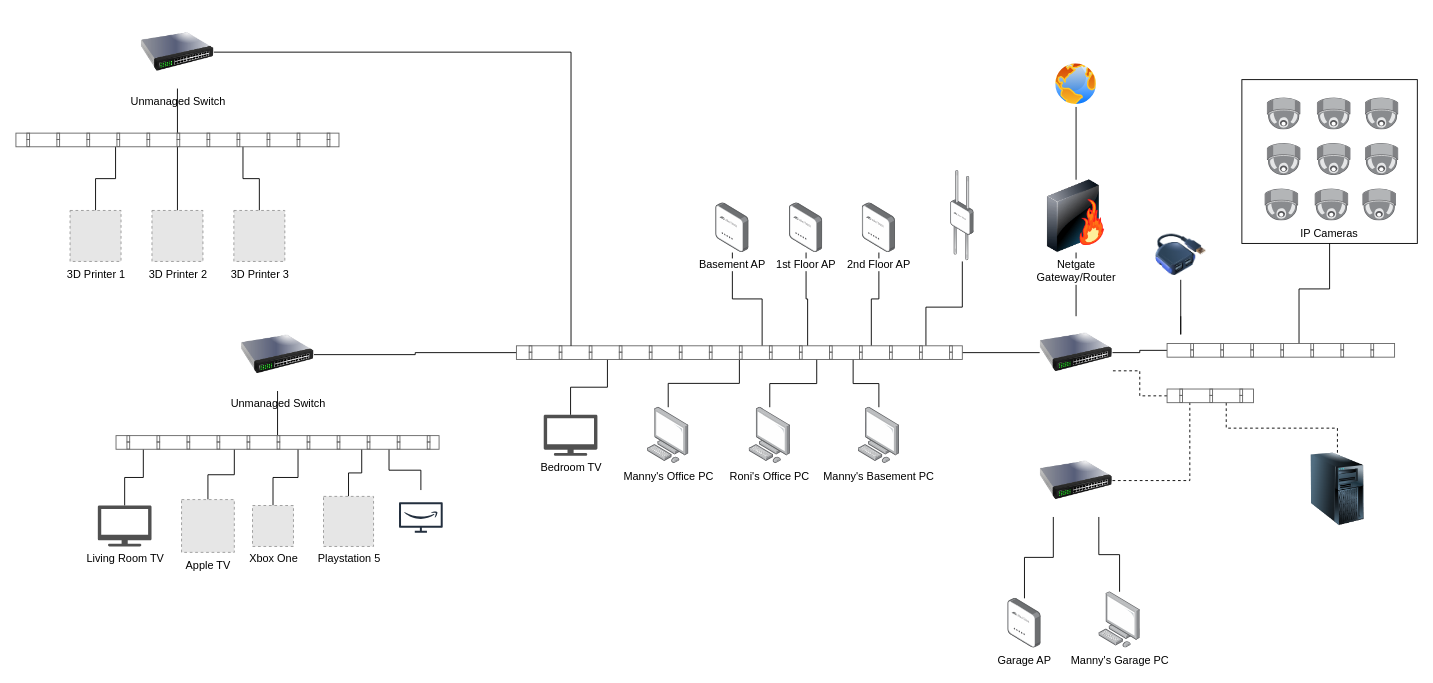
Image size: 1433x683. Some labels were removed from this diagram. Grey dashed boxes stand in for pictures. Each missing label, with the centre of its shape:
24 Port Switch: the point at 1075,352
8 Port Switch: the point at 1075,480
Controller: the point at 1180,254
FireTV: the point at 420,517
Internet: the point at 1075,83
Outdoor (Sunroom) AP: the point at 962,215
Security Cam VMS & Storage: the point at 1337,488
